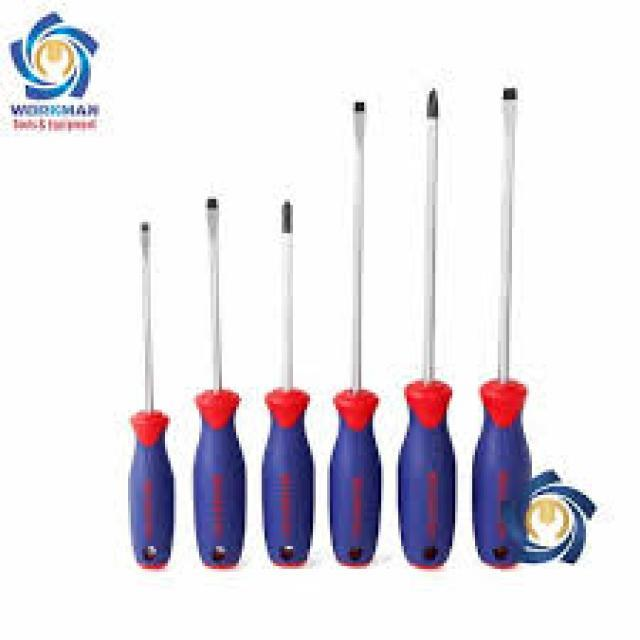screwdriver: (392, 85, 460, 569), (468, 74, 534, 572), (326, 90, 386, 570), (189, 190, 252, 572), (259, 195, 316, 568), (125, 209, 179, 573)
